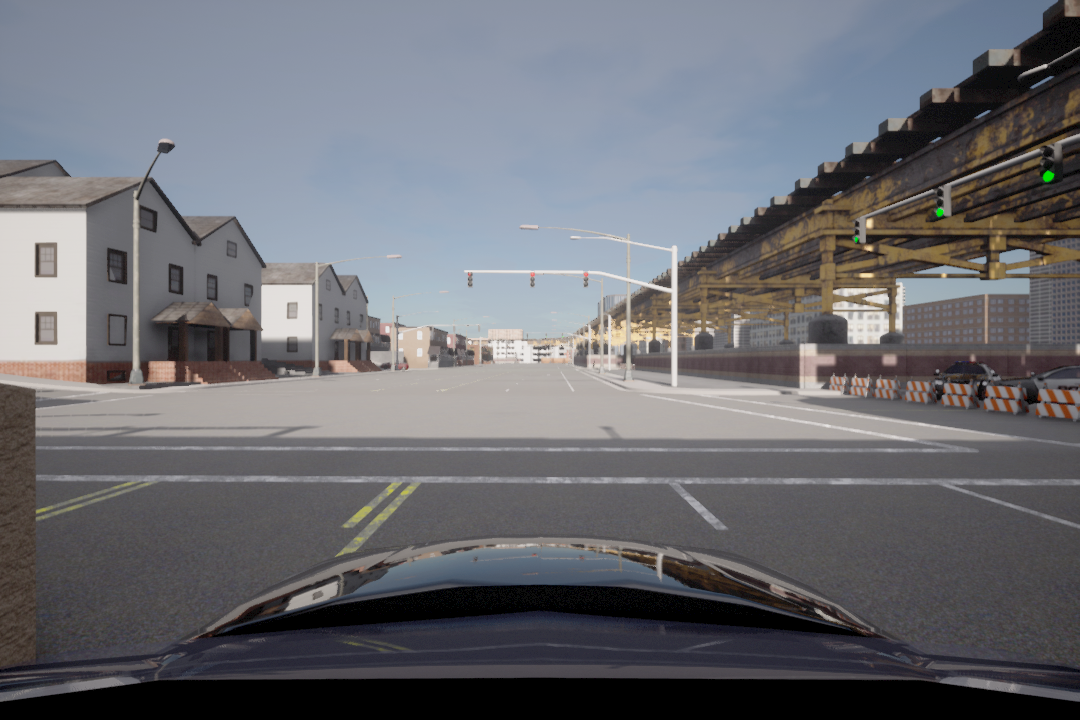TrafficLight: (1033, 140, 1064, 191), (934, 182, 953, 220), (851, 214, 868, 245), (465, 271, 475, 290), (528, 271, 537, 290), (581, 270, 589, 291)
